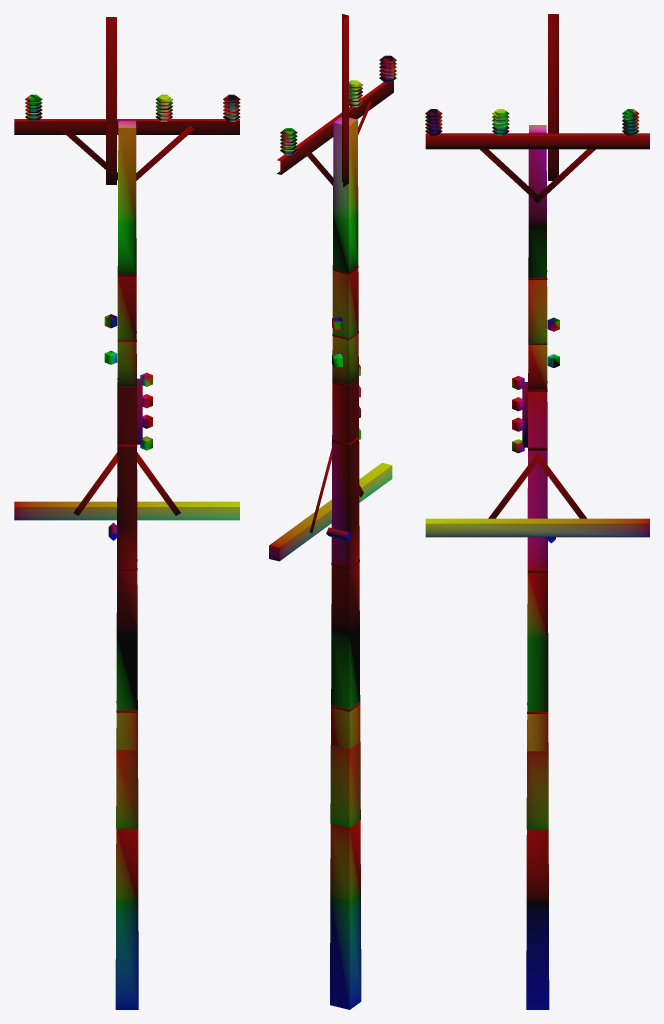
Rendered from Powerpole_Square.fbx.
3 views of the same model, side by side, from view 1: azimuth 90°, elevation 25°; view 2: azimuth 150°, elevation 25°; view 3: azimuth 270°, elevation 25° (orthographic).
Visible parts, largest first — view 1: Powerpole_Square_Concrete, Powerpole_Square_Metal, Powerpole_Square_Plastic, Powerpole_Square_Stripes; view 2: Powerpole_Square_Concrete, Powerpole_Square_Metal, Powerpole_Square_Stripes, Powerpole_Square_Plastic; view 3: Powerpole_Square_Concrete, Powerpole_Square_Metal, Powerpole_Square_Plastic, Powerpole_Square_Stripes.
Boxes of the visible parts, left/top/right/bottom form: Powerpole_Square_Concrete: left=14, top=120, right=239, bottom=1009; Powerpole_Square_Metal: left=14, top=17, right=239, bottom=712; Powerpole_Square_Plastic: left=25, top=94, right=240, bottom=450; Powerpole_Square_Stripes: left=116, top=750, right=138, bottom=828; Powerpole_Square_Concrete: left=269, top=116, right=392, bottom=1009; Powerpole_Square_Metal: left=277, top=14, right=393, bottom=711; Powerpole_Square_Stripes: left=330, top=742, right=360, bottom=827; Powerpole_Square_Plastic: left=280, top=55, right=396, bottom=439; Powerpole_Square_Concrete: left=425, top=125, right=649, bottom=1009; Powerpole_Square_Metal: left=425, top=14, right=649, bottom=713; Powerpole_Square_Plastic: left=425, top=109, right=639, bottom=453; Powerpole_Square_Stripes: left=526, top=742, right=548, bottom=829.
Size of the model in its own units: 0.3788 by 11.97 by 2.47.
